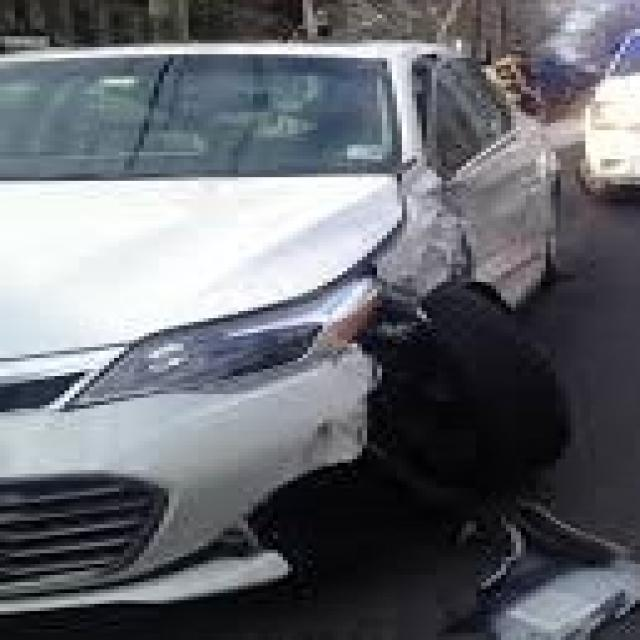moderate: (313, 120, 595, 470)
